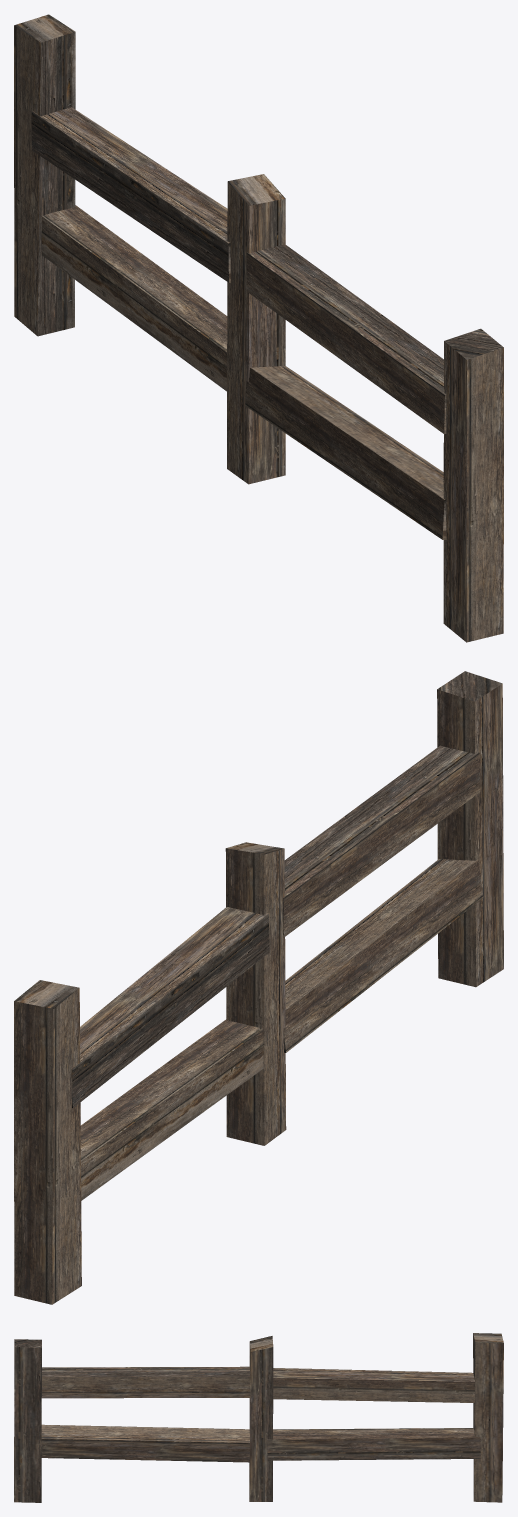
File: fence3.fbx
3 views of the same model, one above another, from view 1: azimuth 30°, elevation 25°; view 2: azimuth 150°, elevation 25°; view 3: azimuth 270°, elevation 25° (orthographic). The views are drawn at different scales.
Parts seen in each view (by area): view 1: fence; view 2: fence; view 3: fence.
Part boxes in pixels (left/top/right/bottom): fence: left=14, top=14, right=503, bottom=642; fence: left=14, top=671, right=503, bottom=1304; fence: left=14, top=1333, right=503, bottom=1502.
Size of the model in its own units: 24.83 by 151 by 418.
1 material, 1 textured.
